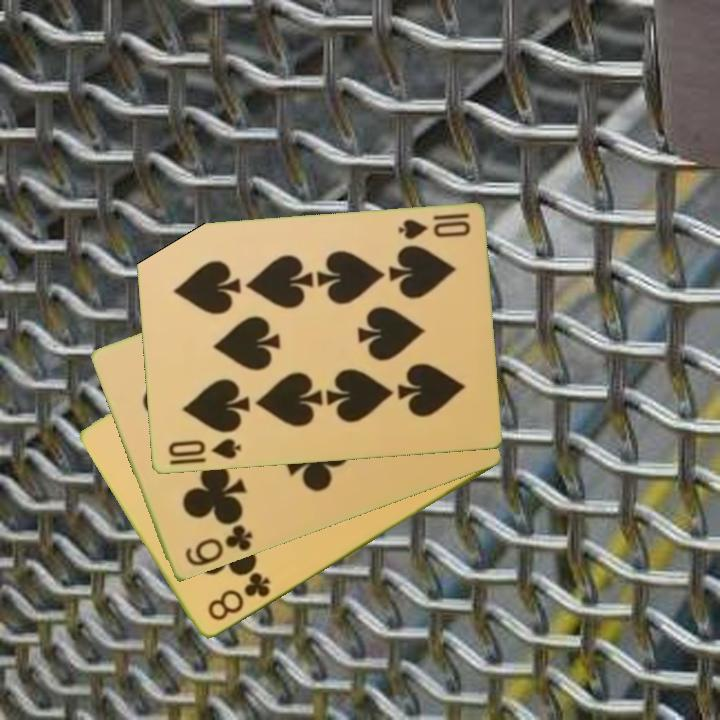10s: (394, 210, 473, 243), (164, 435, 244, 462)
6c: (181, 521, 256, 570)
8c: (204, 569, 273, 625)
